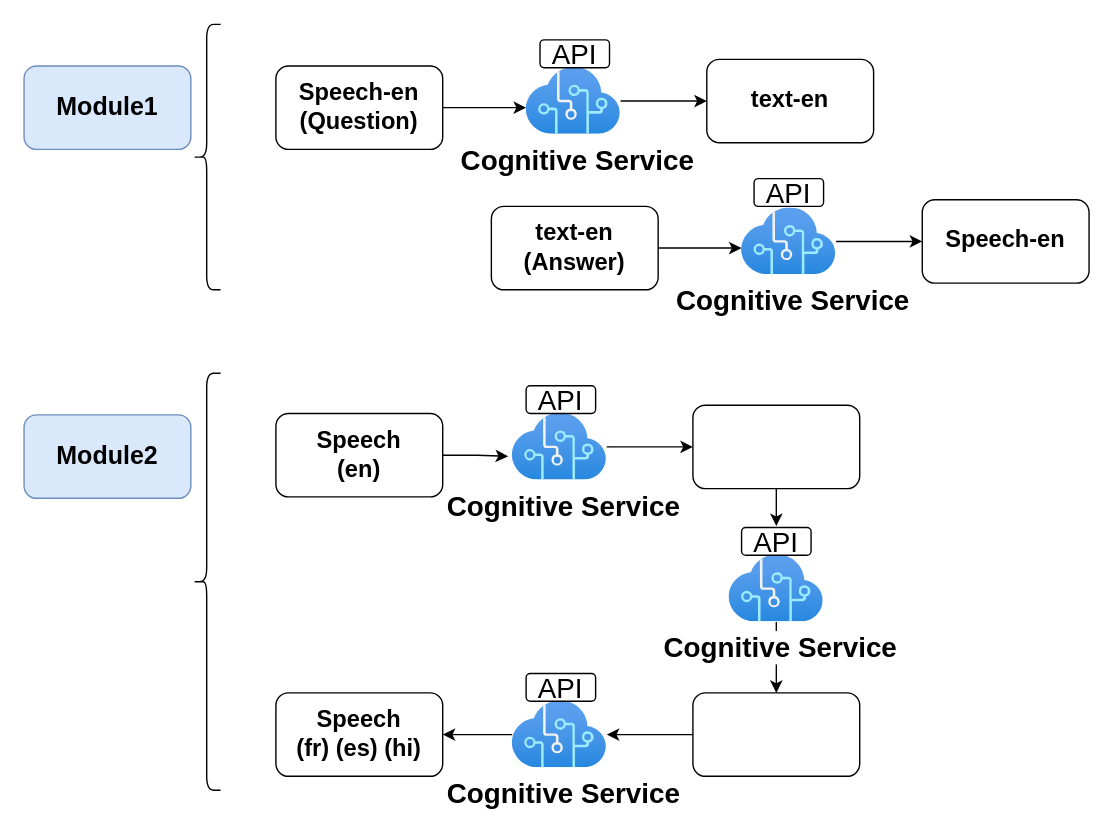
This 1115x835 diagram has some shape labels left out. The shapes that lost their labels are listed below. From the top down, each one's centre as x and y in pixels, then its label:
At (776,446): "text (en)".
At (776,734): "text (fr) (es) (hi)".
